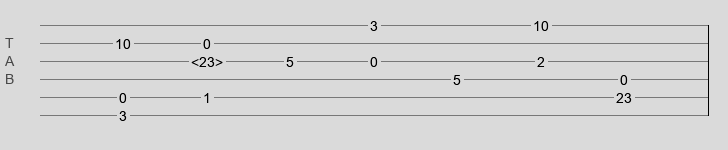0: (119, 90, 127, 100), (203, 36, 211, 46), (370, 54, 378, 64), (620, 72, 628, 82)
1: (203, 90, 211, 100)
10: (115, 36, 131, 46), (533, 18, 549, 28)
2: (537, 54, 545, 64)
23: (616, 90, 632, 100)
3: (119, 108, 127, 118), (370, 18, 378, 28)
5: (286, 54, 294, 64), (453, 72, 461, 82)
harmonic: (191, 54, 223, 64)
